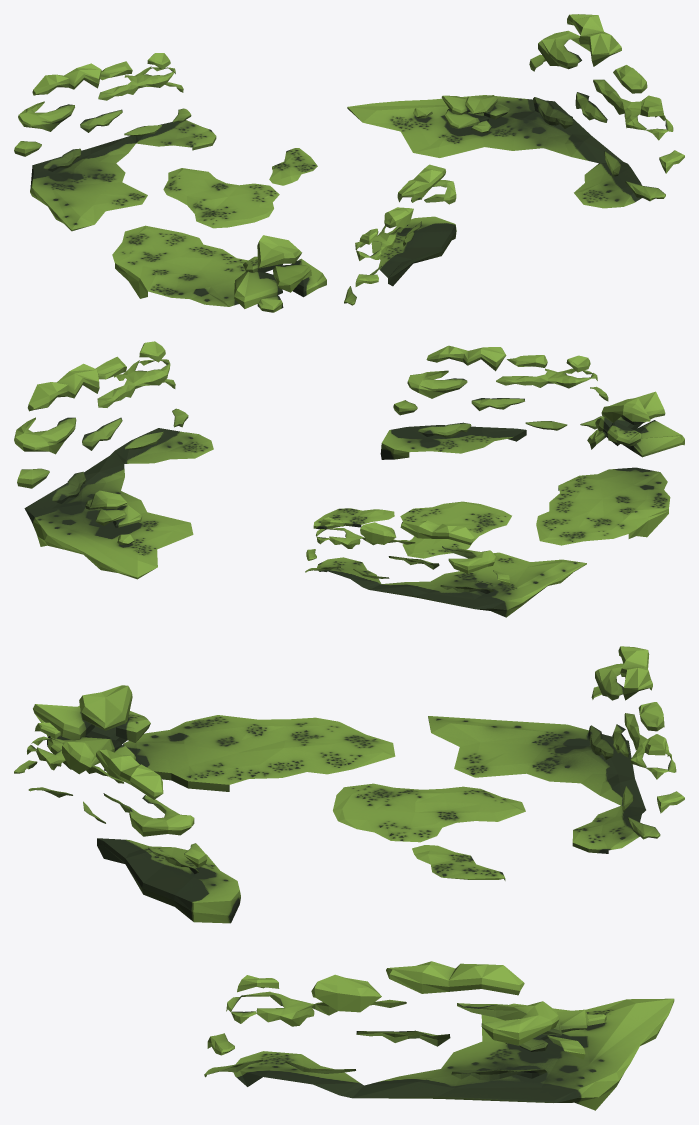
Rendered from Plant_01.FBX.
3 views of the same model, one above another, from view 1: azimuth 30°, elevation 25°; view 2: azimuth 150°, elevation 25°; view 3: azimuth 270°, elevation 25° (orthographic). The views are drawn at different scales.
Visible parts, largest first — view 1: Plant_01; view 2: Plant_01; view 3: Plant_01.
Boxes of the visible parts, bbox=[...] form: Plant_01: bbox=[14, 14, 684, 312]; Plant_01: bbox=[14, 341, 684, 617]; Plant_01: bbox=[14, 646, 684, 1110].
Bounding box in the file's own units: 42.12 × 10.05 × 33.53.
